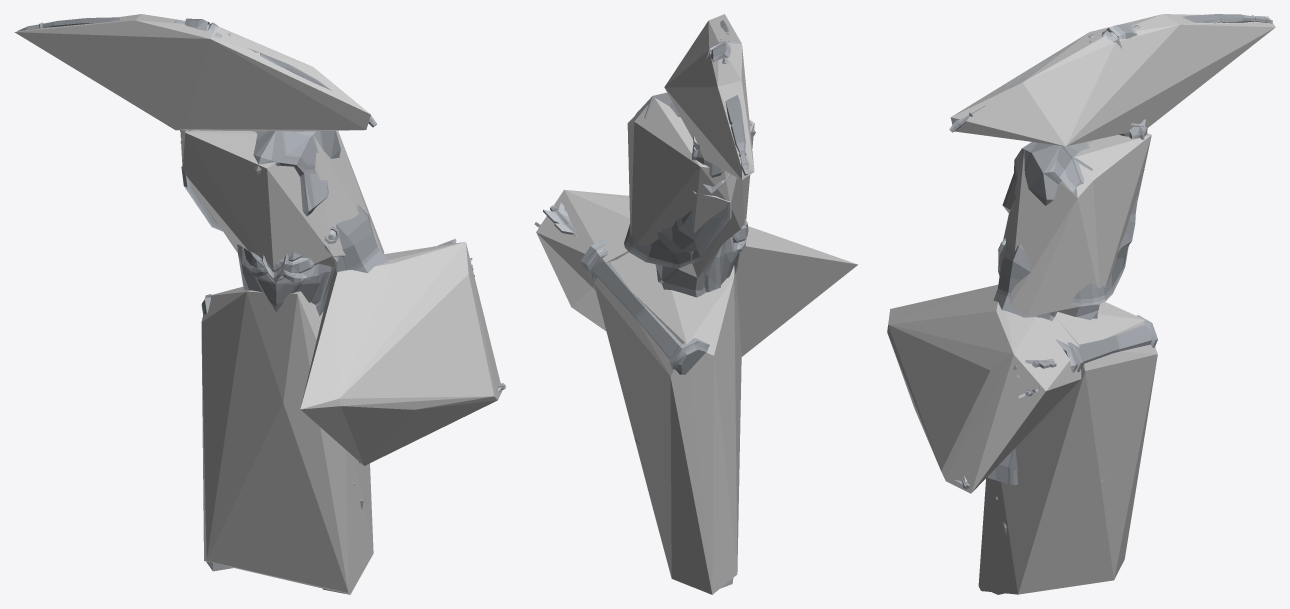
Rendered from SM_Prop_Statue_02.fbx.
3 views of the same model, side by side, from view 1: azimuth 30°, elevation 25°; view 2: azimuth 150°, elevation 25°; view 3: azimuth 270°, elevation 25° (orthographic). The views are drawn at different scales.
Visible parts, largest first — view 1: SM_Prop_Statue_02_ConvexHulls, SM_Prop_Statue_02; view 2: SM_Prop_Statue_02_ConvexHulls, SM_Prop_Statue_02; view 3: SM_Prop_Statue_02_ConvexHulls, SM_Prop_Statue_02.
Part boxes in pixels (x1,y1,x2,y2): SM_Prop_Statue_02_ConvexHulls: (14,14,502,594); SM_Prop_Statue_02: (17,17,505,593); SM_Prop_Statue_02_ConvexHulls: (536,14,857,594); SM_Prop_Statue_02: (534,20,755,588); SM_Prop_Statue_02_ConvexHulls: (887,14,1275,594); SM_Prop_Statue_02: (949,14,1272,594).
Size of the model in its own units: 142 by 145 by 219.
2 materials, 1 textured.
